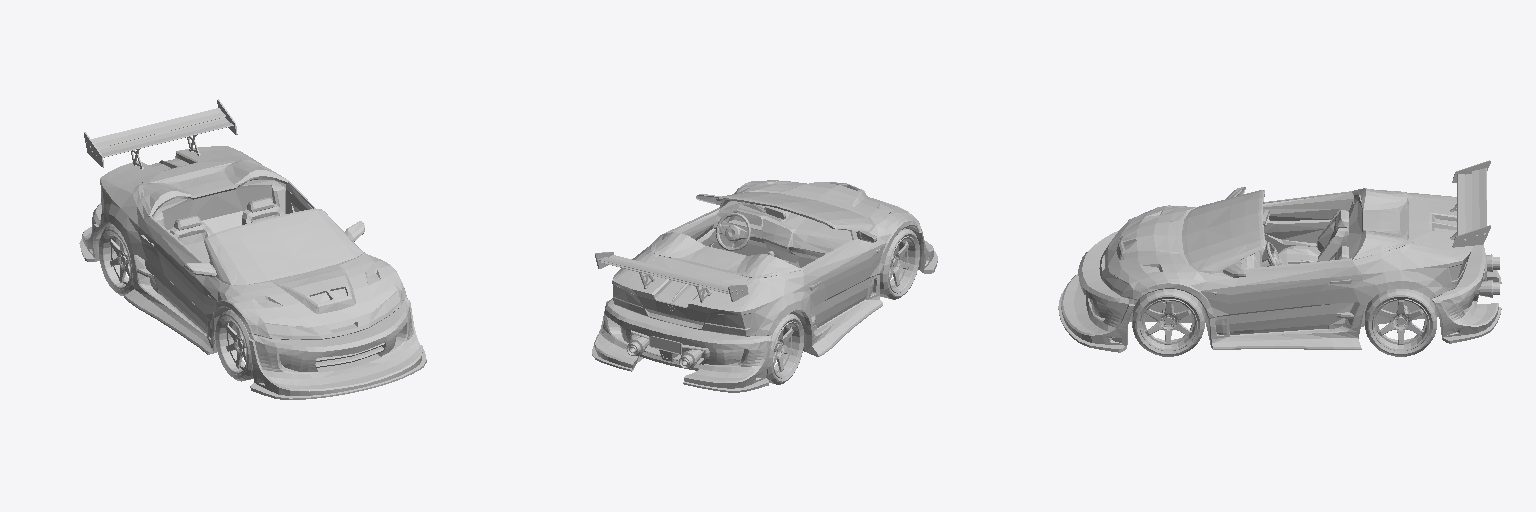
File: car.obj
3 renders of one model, left to right at view 1: azimuth 30°, elevation 25°; view 2: azimuth 150°, elevation 25°; view 3: azimuth 270°, elevation 25°, orthographic.
Parts seen in each view (by area): view 1: Car; view 2: Car; view 3: Car.
Boxes of the visible parts, x1=… form: Car: x1=79, y1=99, x2=426, y2=399; Car: x1=592, y1=180, x2=937, y2=392; Car: x1=1058, y1=160, x2=1501, y2=356.
Size of the model in its own units: 1.71 by 1.12 by 3.57.